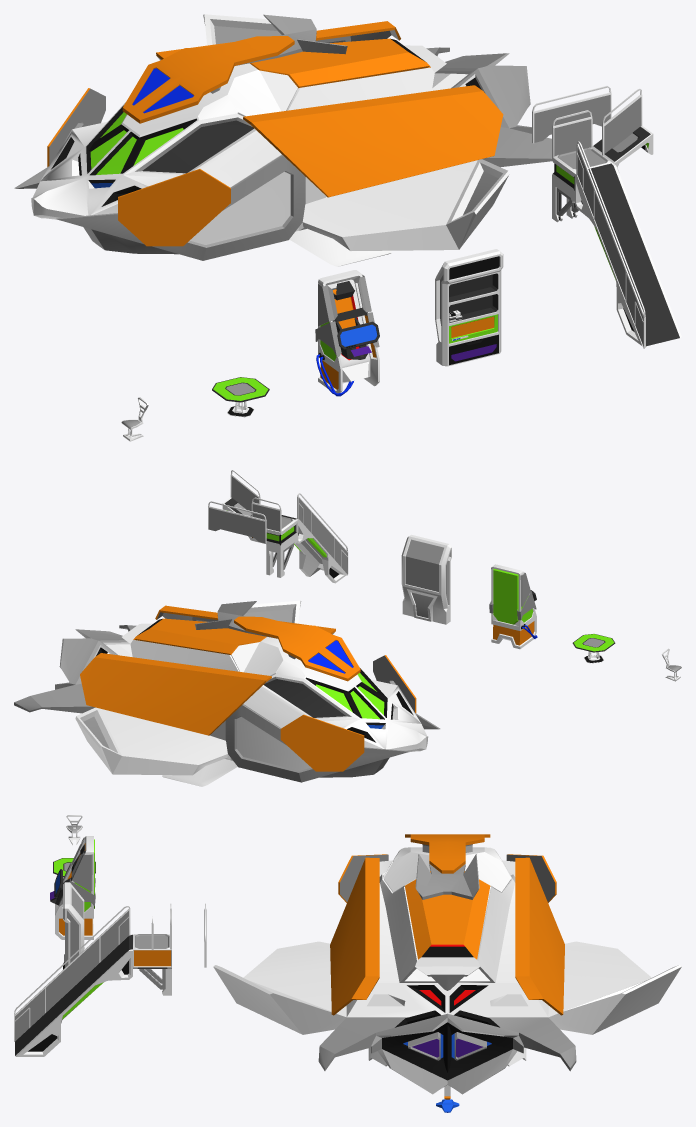
File: SpaceBase_Props02.fbx
3 renders of one model, top to bottom at view 1: azimuth 30°, elevation 25°; view 2: azimuth 150°, elevation 25°; view 3: azimuth 270°, elevation 25°, orthographic. The views are drawn at different scales.
Parts seen in each view (by area): view 1: Box010, Box001, Box005, Box007, Ramp00, Fence001, Ramp01, Box008, Fence00, Box002, Box003, Rack00 (+2 smaller); view 2: Box010, Box005, Box007, Box001, Fence001, Ramp00, Box008, Box004, Ramp01, Box002, Fence00; view 3: Box010, Box001, Ramp00, Box007, Box005, Box003, Box002, Box004.
Boxes of the visible parts, x1,y1,x2,y2 form: Box010: [14, 14, 552, 266]; Box001: [574, 163, 681, 346]; Box005: [435, 249, 503, 366]; Box007: [315, 270, 379, 396]; Ramp00: [576, 141, 645, 348]; Fence001: [532, 86, 611, 143]; Ramp01: [602, 88, 642, 155]; Box008: [212, 377, 269, 417]; Fence00: [552, 110, 592, 157]; Box002: [552, 147, 613, 193]; Box003: [592, 126, 653, 172]; Rack00: [449, 310, 498, 365]; Box010: [14, 600, 440, 786]; Box005: [401, 534, 451, 624]; Box007: [489, 564, 537, 649]; Box001: [281, 515, 347, 583]; Fence001: [208, 501, 266, 543]; Ramp00: [297, 493, 348, 575]; Box008: [572, 634, 615, 663]; Box004: [266, 536, 297, 577]; Ramp01: [230, 470, 260, 513]; Box002: [251, 516, 297, 547]; Fence00: [251, 497, 281, 532]; Box010: [213, 834, 681, 1094]; Box001: [15, 934, 132, 1056]; Ramp00: [14, 906, 130, 1041]; Box007: [50, 836, 95, 939]; Box005: [63, 882, 84, 967]; Box003: [133, 949, 171, 968]; Box002: [133, 934, 169, 949]; Box004: [139, 969, 171, 995].
Bounding box in the file's own units: 156 × 56.67 × 171.
